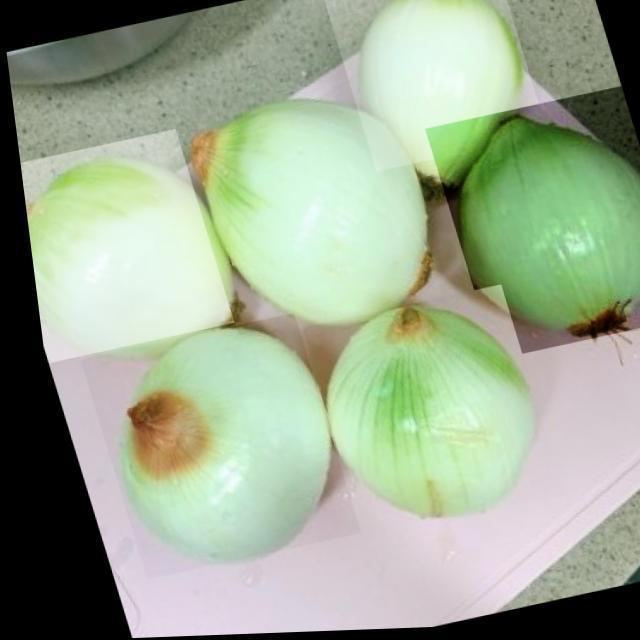Onion: (67, 312, 350, 580), (165, 74, 438, 346), (289, 286, 555, 542), (417, 90, 640, 364), (13, 125, 244, 362), (321, 0, 546, 175)
